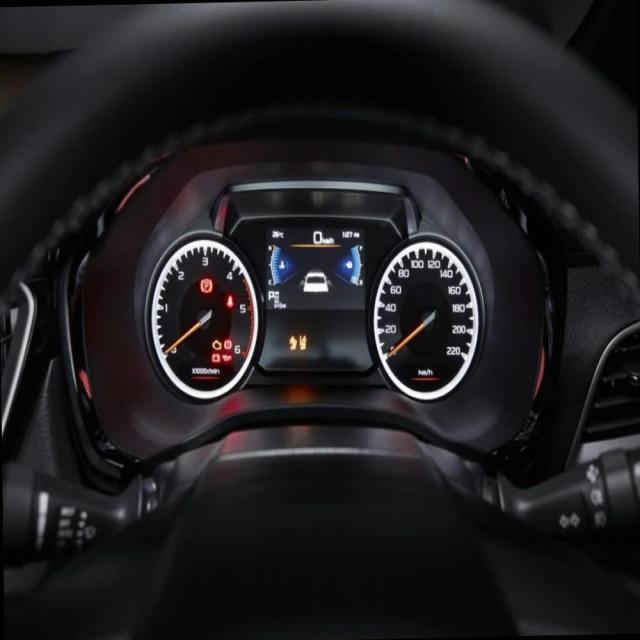Seat Belt: (226, 295, 233, 307)
